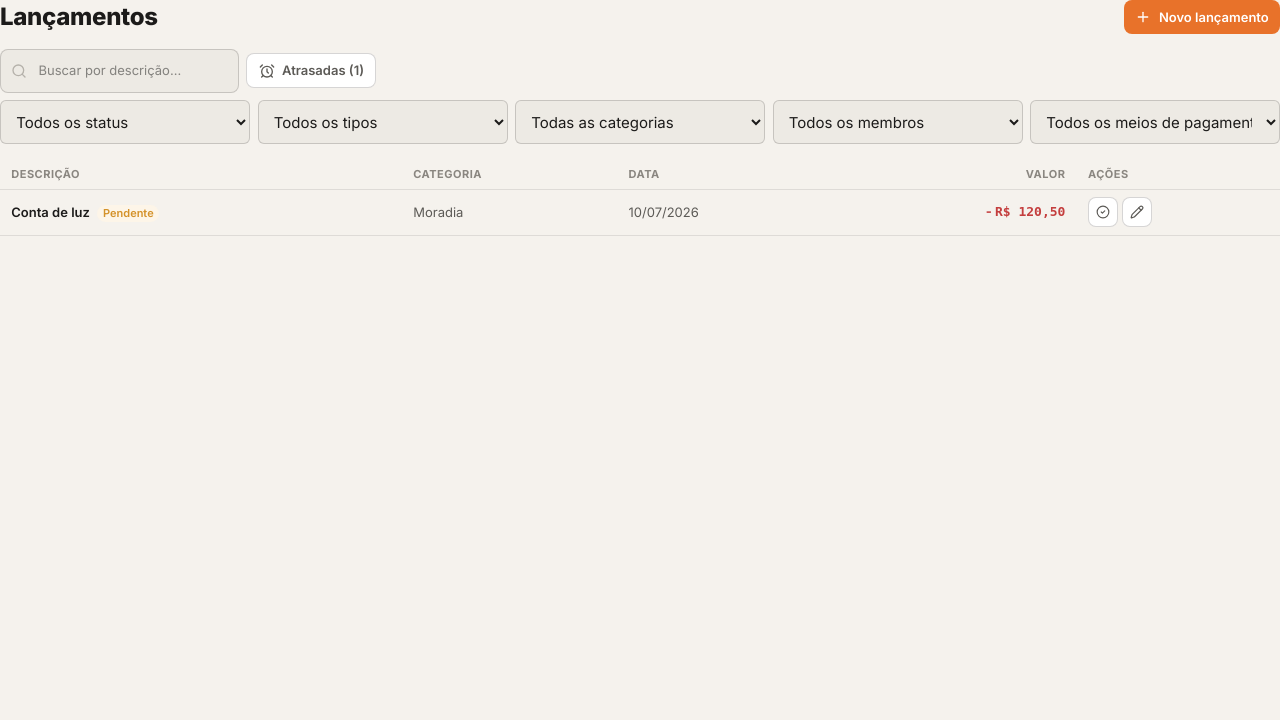
FinanceEntriesPage › offers the payment method in the filters and the form modal
Click the button "Novo lançamento".
click(1202, 17)  # box [1124,0,1279,34]
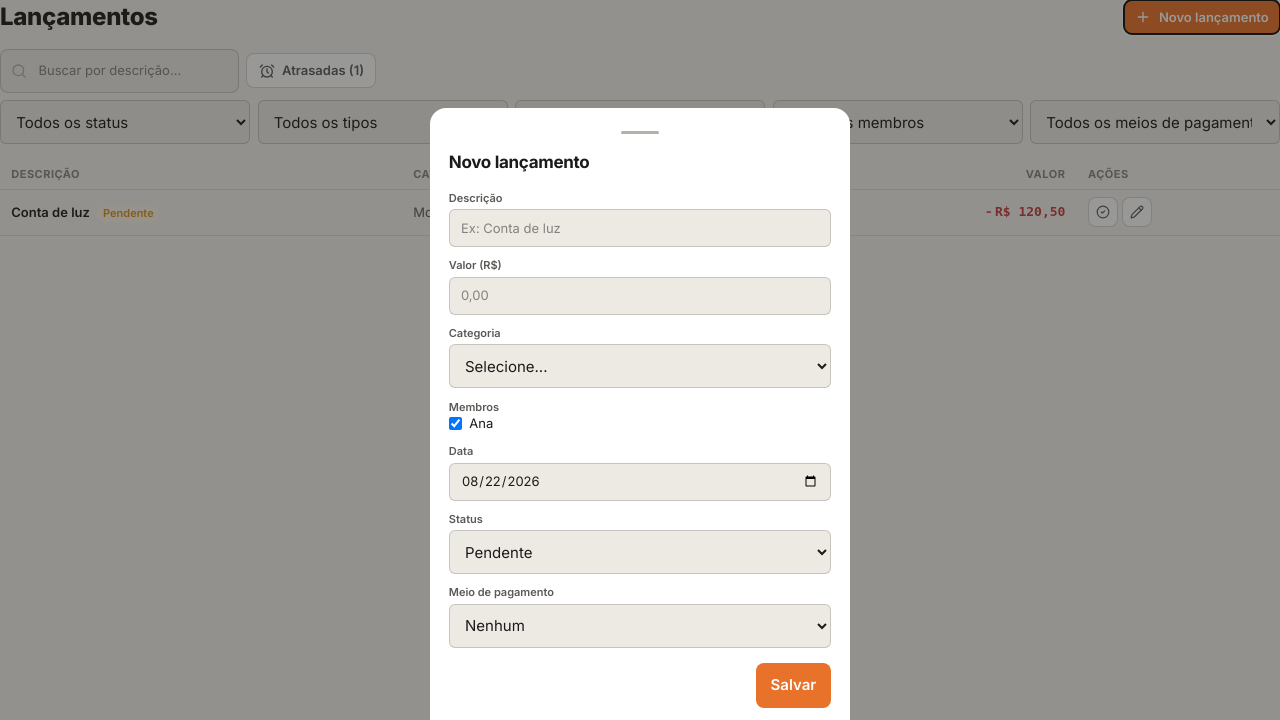
Check: the dropdown labelled "Meio de pagamento" is shown, box [449,604,831,648]
